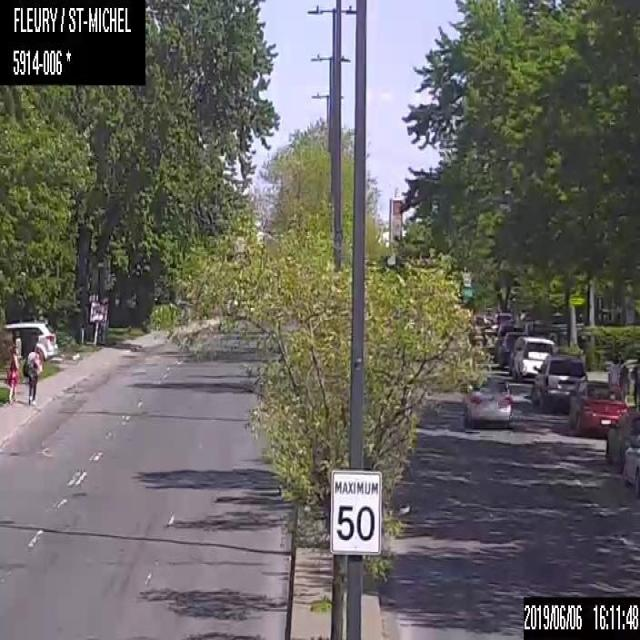pedestrian: (22, 346, 42, 405), (4, 336, 21, 404), (618, 364, 629, 401), (631, 368, 639, 404)
vehicle: (566, 378, 628, 437), (529, 352, 587, 414), (463, 377, 512, 428), (1, 320, 57, 363), (510, 334, 554, 382), (605, 405, 639, 465), (492, 322, 522, 363), (496, 330, 526, 369), (622, 433, 639, 497), (492, 311, 514, 333)
